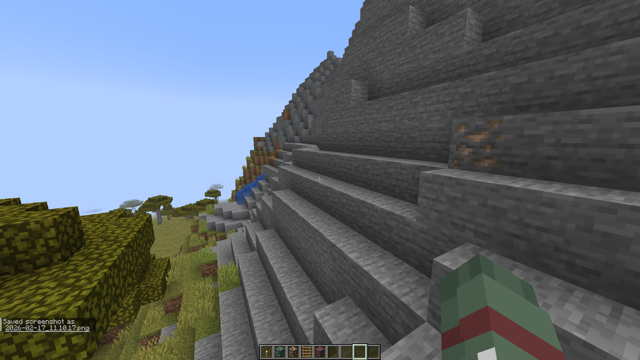iron: (449, 114, 506, 173)
